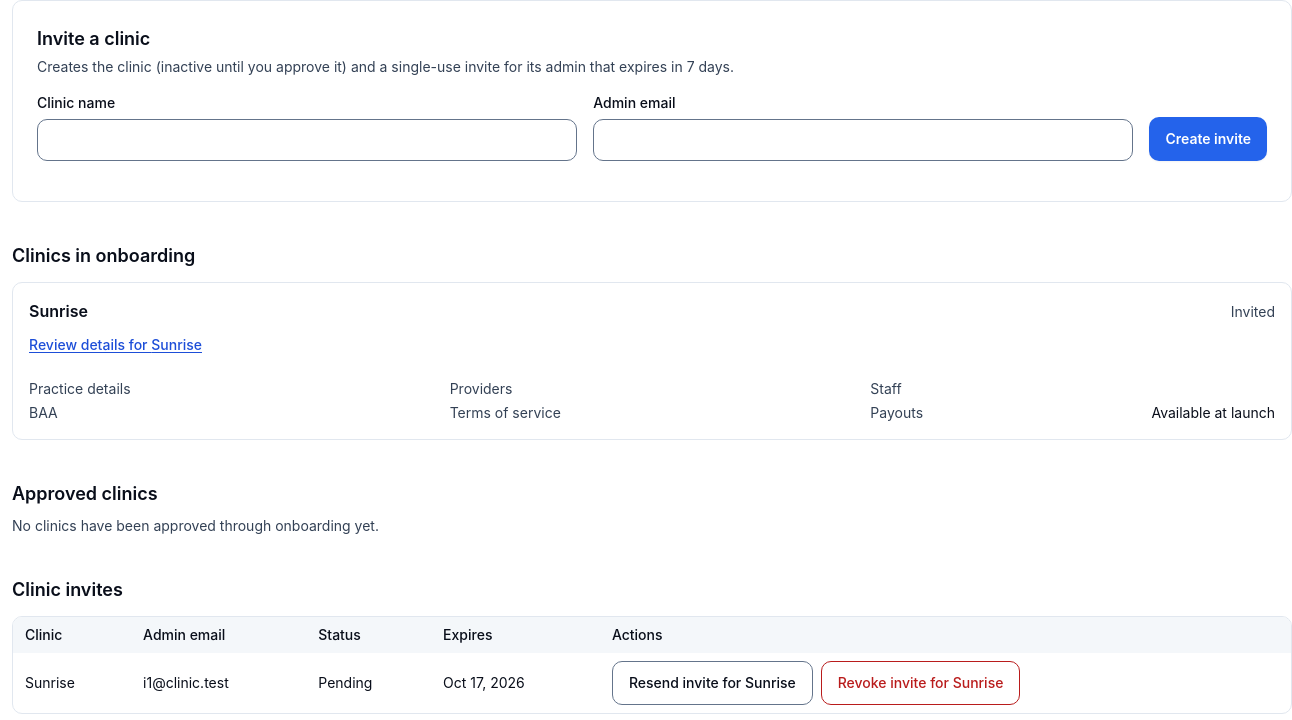
a created invite shows in both lists at once, and its link stays on screen
Type "Blue Cedar" into the field labelled "Clinic name".
click(307, 140); type("Blue Cedar")  # box top-left (37, 119), bottom-right (577, 161)
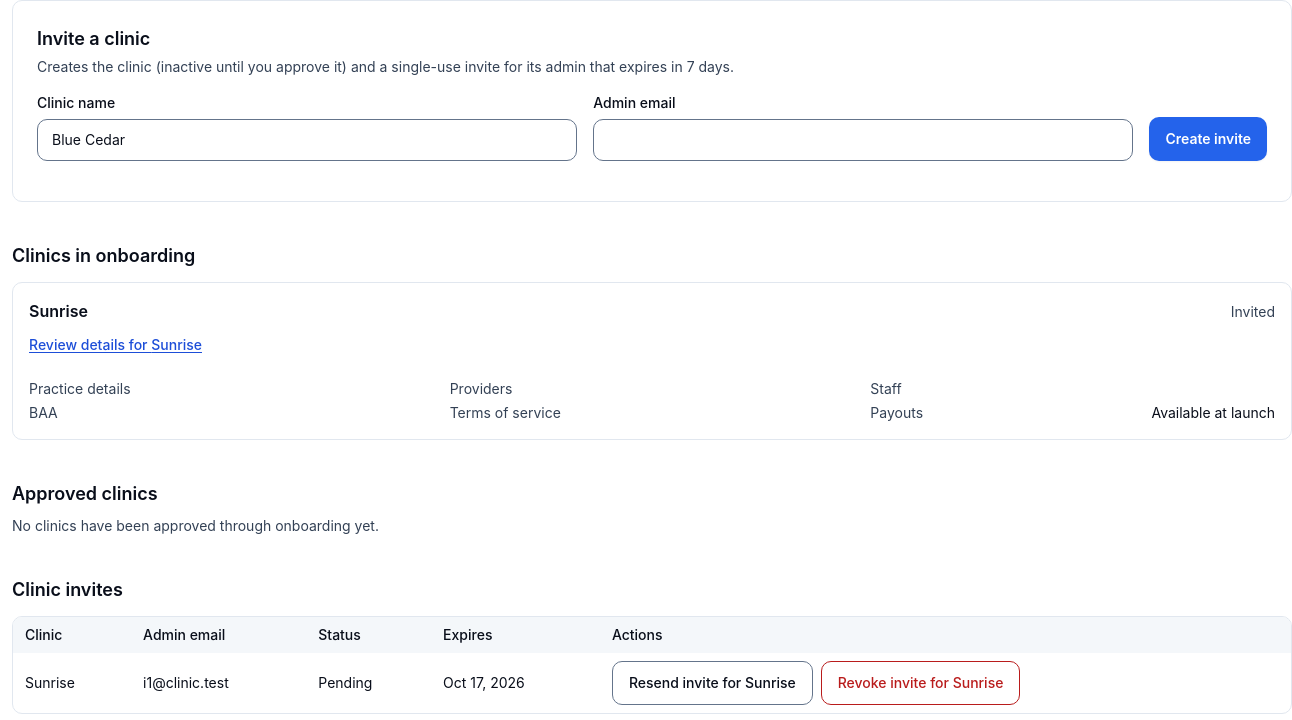
Type "i2@clinic.test" into the field labelled "Admin email".
click(863, 140); type("i2@clinic.test")  # box top-left (593, 119), bottom-right (1133, 161)
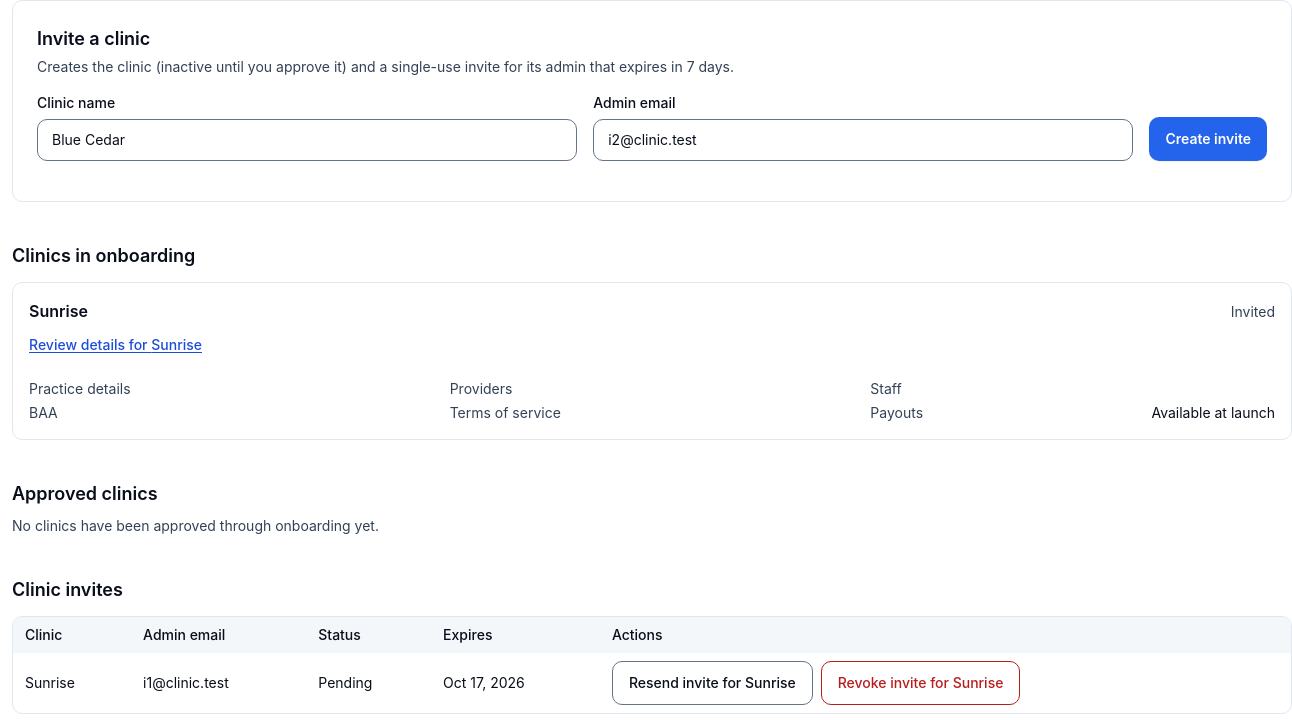
Click the button "Create invite".
click(1208, 139)  # box top-left (1149, 117), bottom-right (1267, 161)
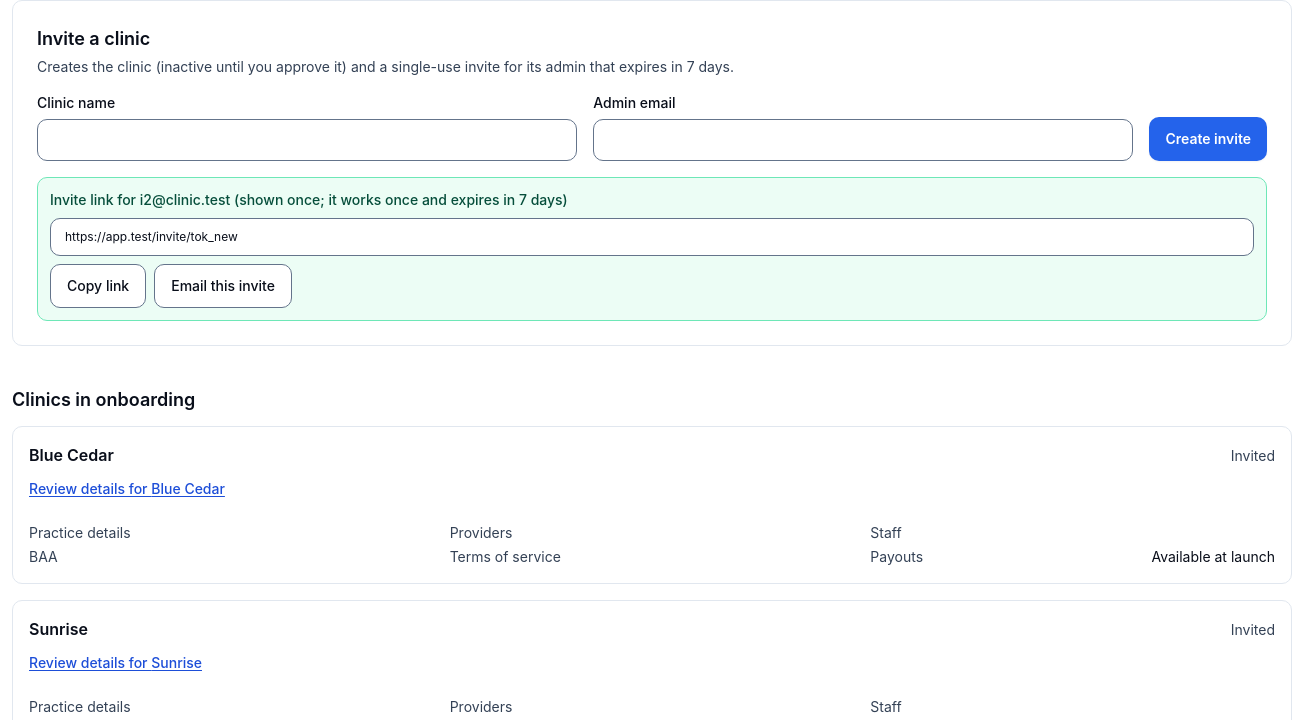
Expected: the heading "Blue Cedar" is shown, top-left (29, 443), bottom-right (114, 467)
Expected: the field showing "https://app.test/invite/tok_new" is shown, top-left (50, 218), bottom-right (1254, 256)
